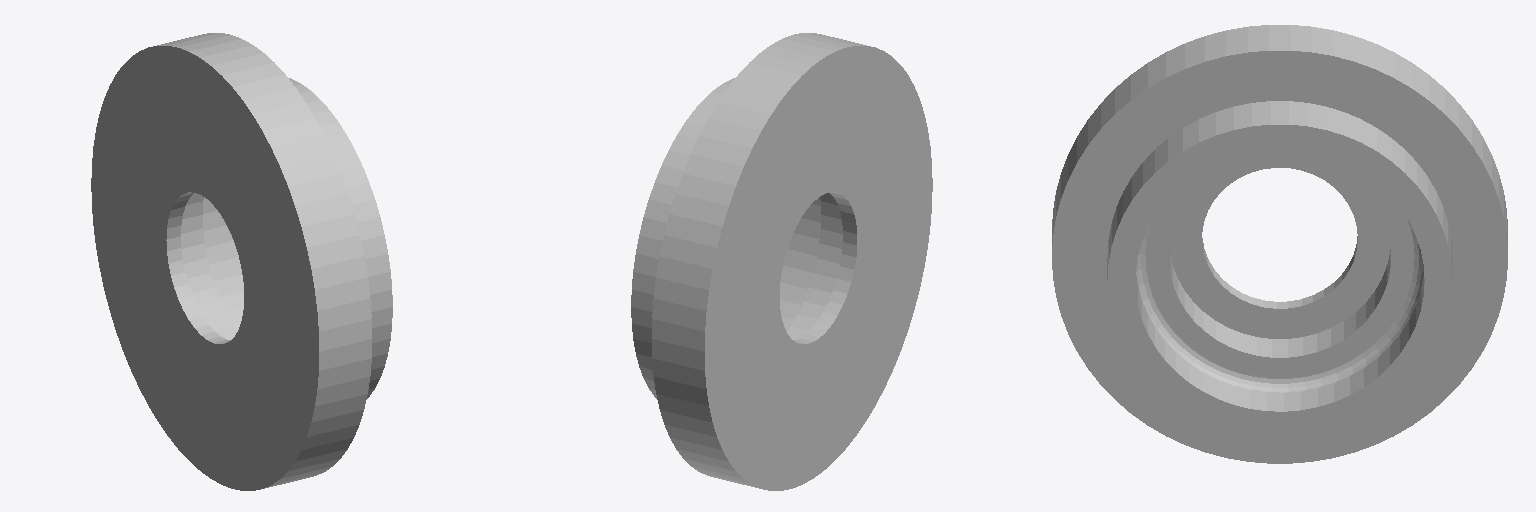
The model's file is N1-003_pc_gfx.obj.
The picture shows the model from 3 angles: view 1: azimuth 30°, elevation 25°; view 2: azimuth 150°, elevation 25°; view 3: azimuth 270°, elevation 25°; orthographic projection.
Visible parts, largest first — view 1: N1-003; view 2: N1-003; view 3: N1-003.
Boxes of the visible parts, x1=… form: N1-003: x1=91, y1=33, x2=392, y2=490; N1-003: x1=631, y1=33, x2=932, y2=490; N1-003: x1=1052, y1=25, x2=1507, y2=463.
Bounding box in the file's own units: 0.063 × 0.2457 × 0.246.